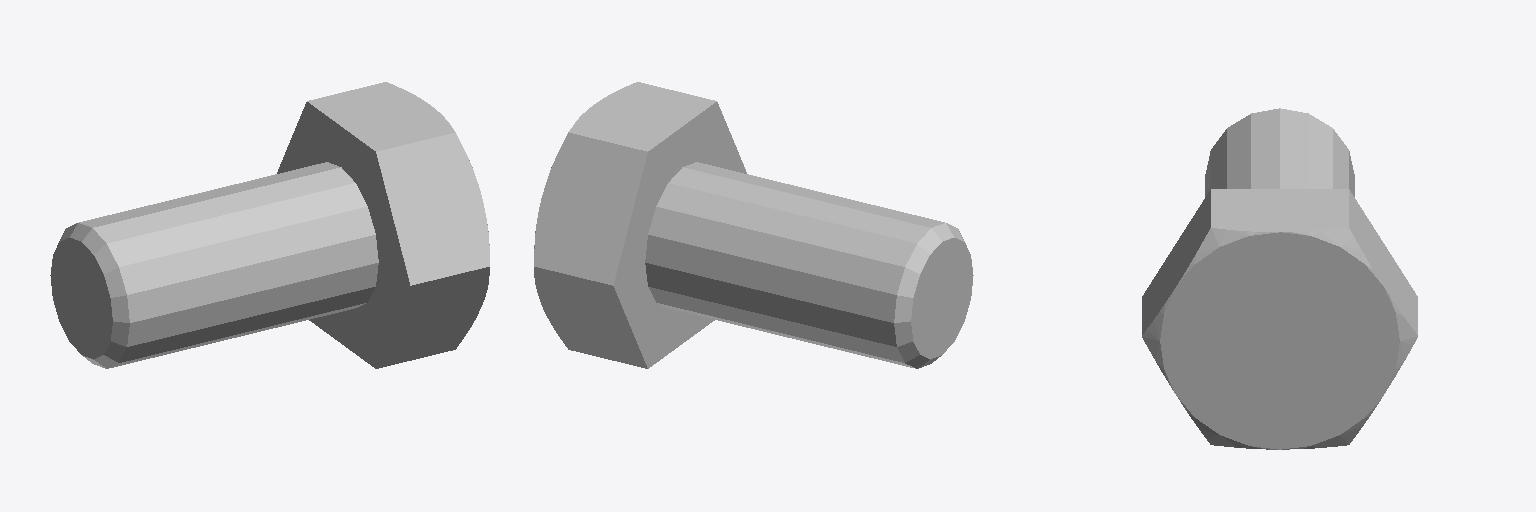
File: Болт самоблокирующийся.obj
3 renders of one model, left to right at view 1: azimuth 30°, elevation 25°; view 2: azimuth 150°, elevation 25°; view 3: azimuth 270°, elevation 25°, orthographic.
Parts seen in each view (by area): view 1: Болт_самоблокирующийся; view 2: Болт_самоблокирующийся; view 3: Болт_самоблокирующийся.
Part boxes in pixels (x1,y1,x2,y2): Болт_самоблокирующийся: (50, 82, 489, 368); Болт_самоблокирующийся: (534, 82, 973, 368); Болт_самоблокирующийся: (1142, 108, 1417, 449).
Size of the model in its own units: 26.85 by 16 by 18.48.